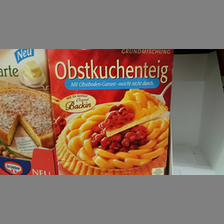cake: (46, 49, 173, 175), (1, 49, 50, 177)
